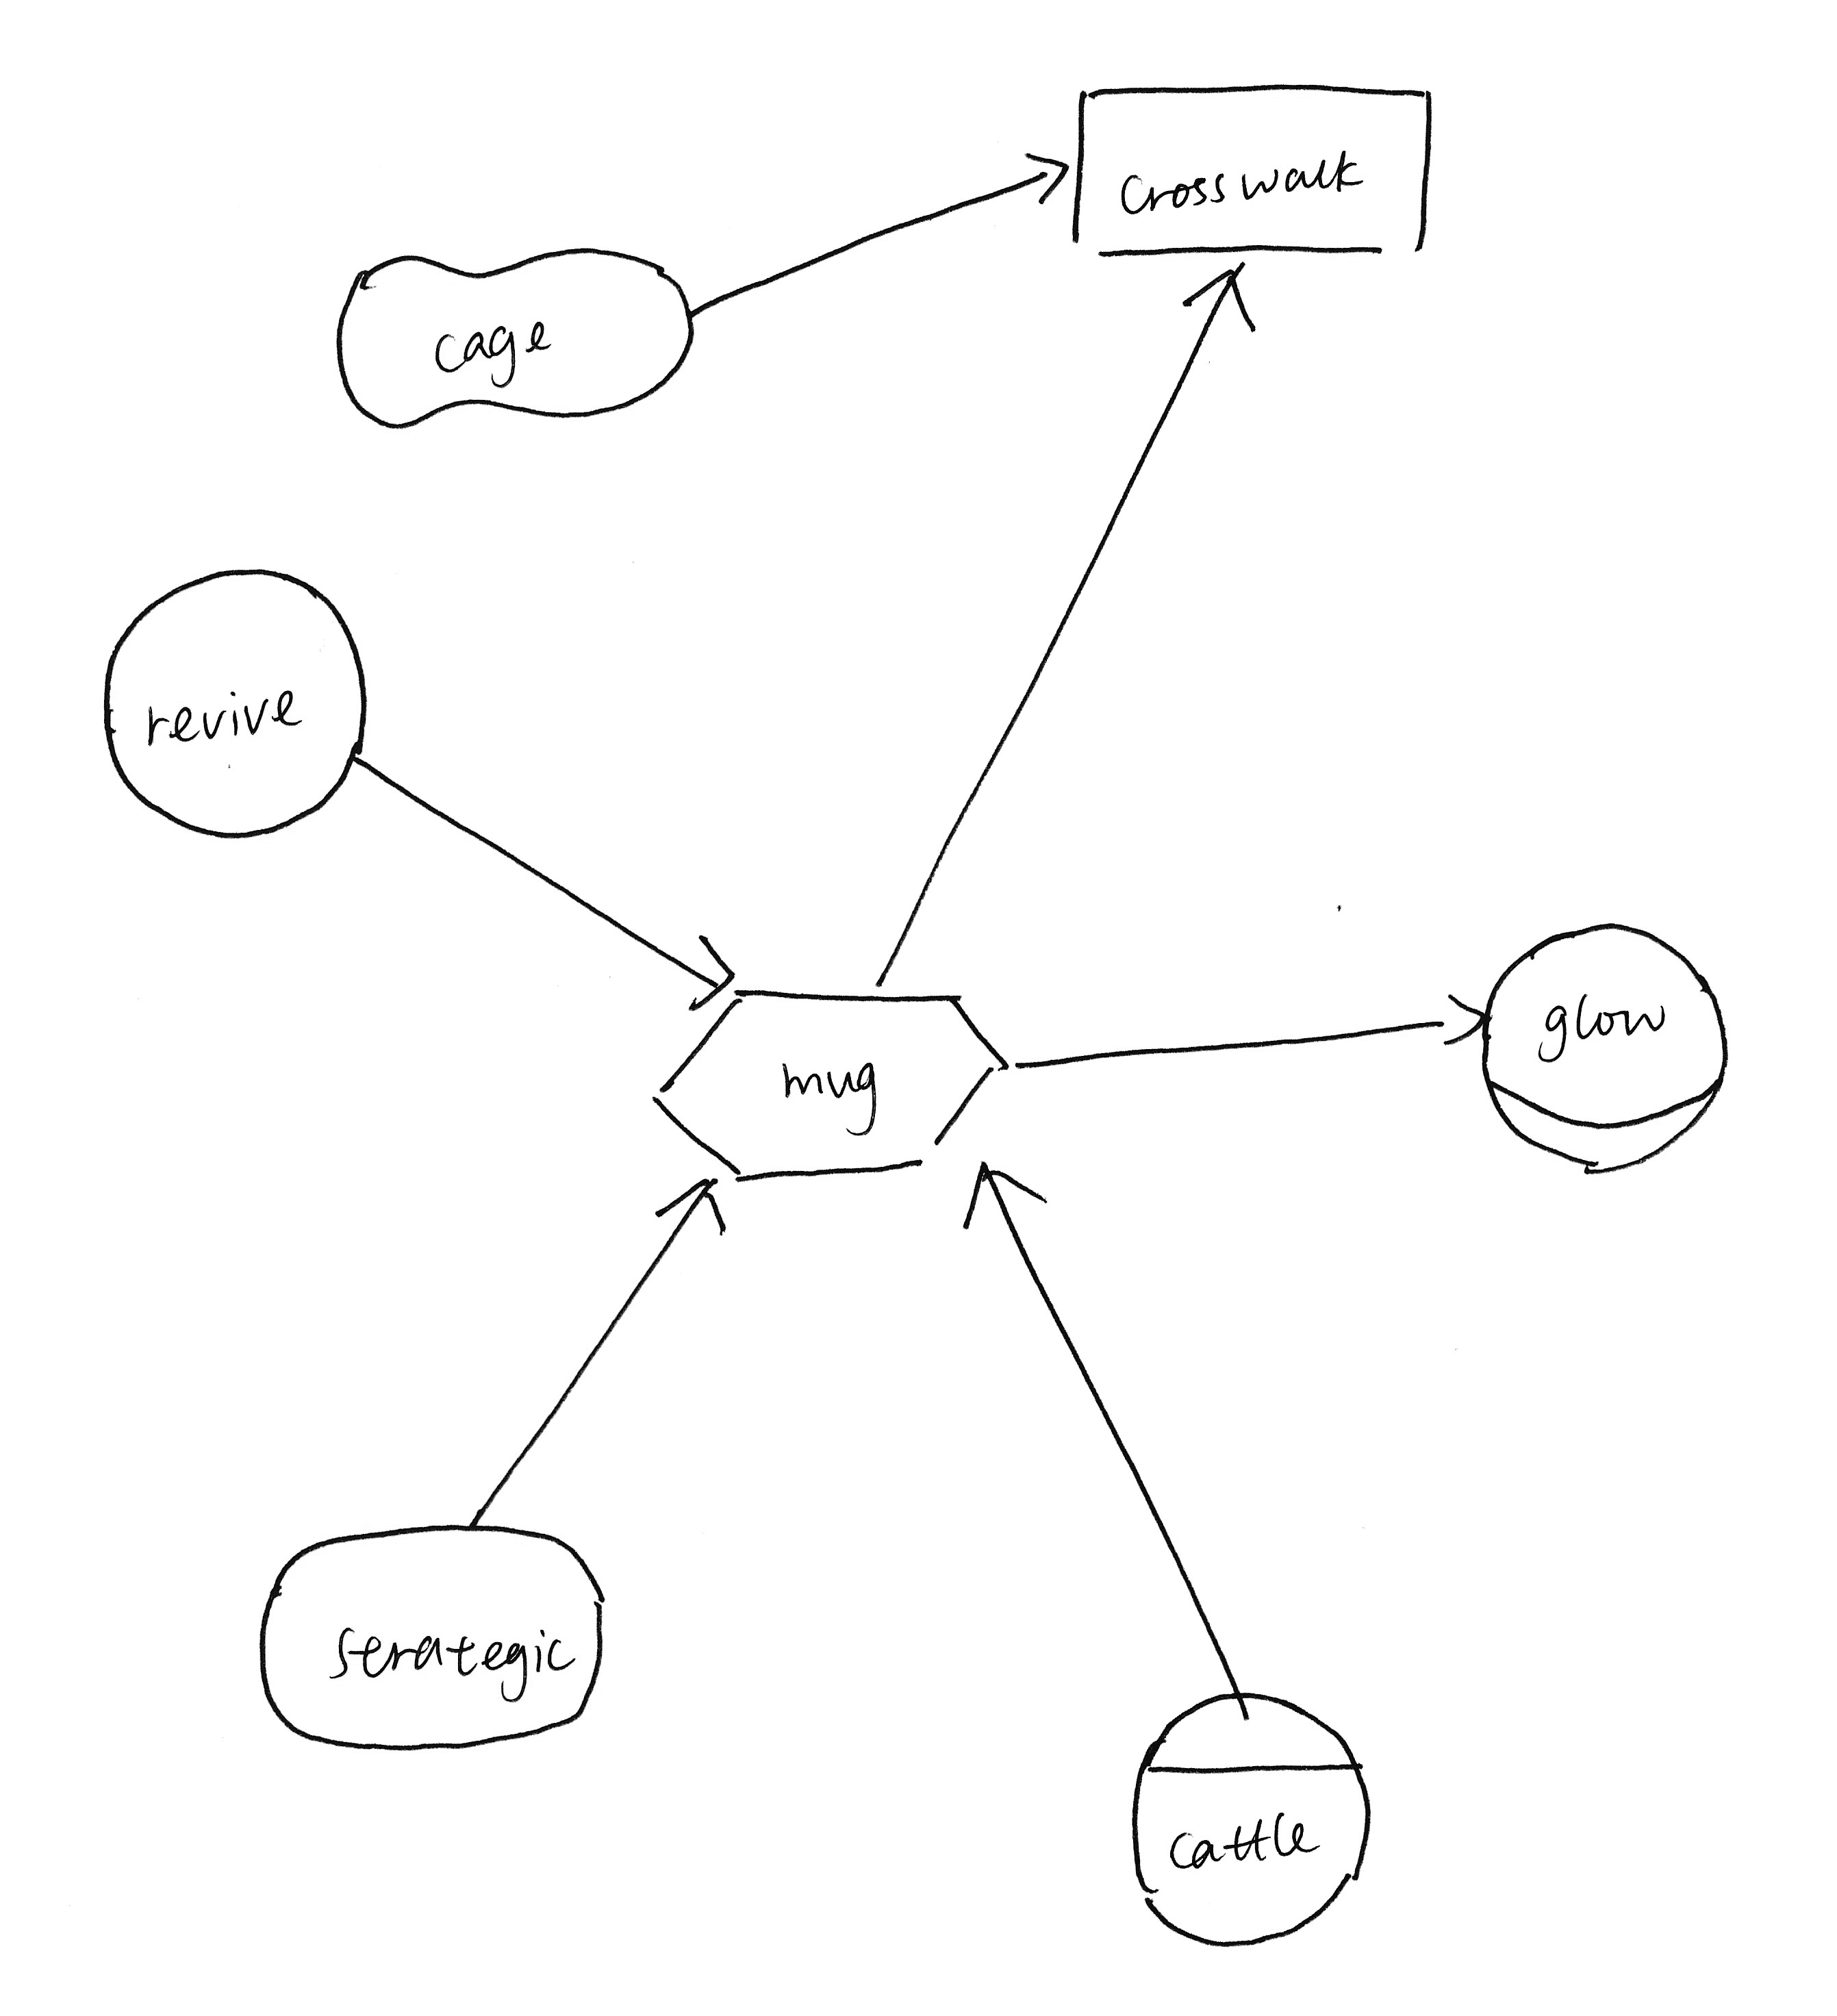actor: (79, 548, 381, 850)
agent: (1119, 1674, 1386, 1956)
arrow: (945, 1140, 1061, 1245), (1171, 249, 1270, 348), (645, 1161, 739, 1257), (662, 924, 750, 1026), (1416, 982, 1500, 1059), (1017, 137, 1082, 221)
goal: (244, 1503, 618, 1765)
quality: (320, 234, 704, 450)
resource: (1054, 58, 1458, 283)
role: (1468, 906, 1756, 1187)
task: (634, 968, 1020, 1196)
